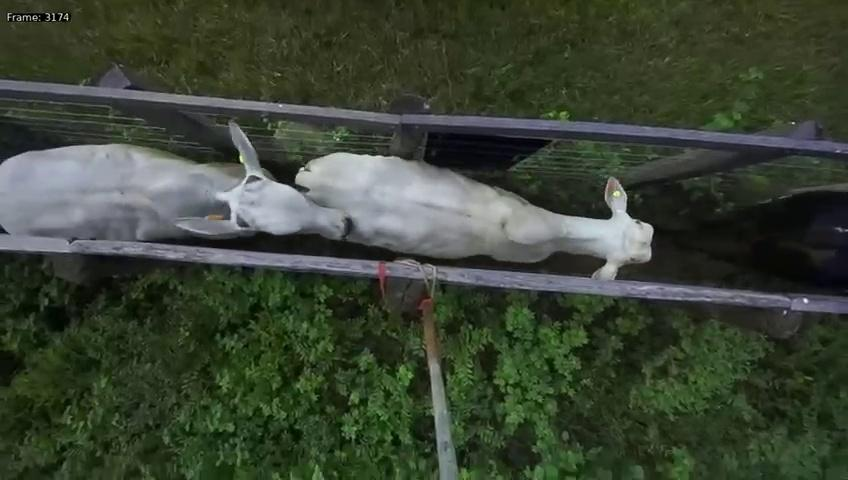cattle: (290, 121, 656, 280), (0, 114, 383, 247)
